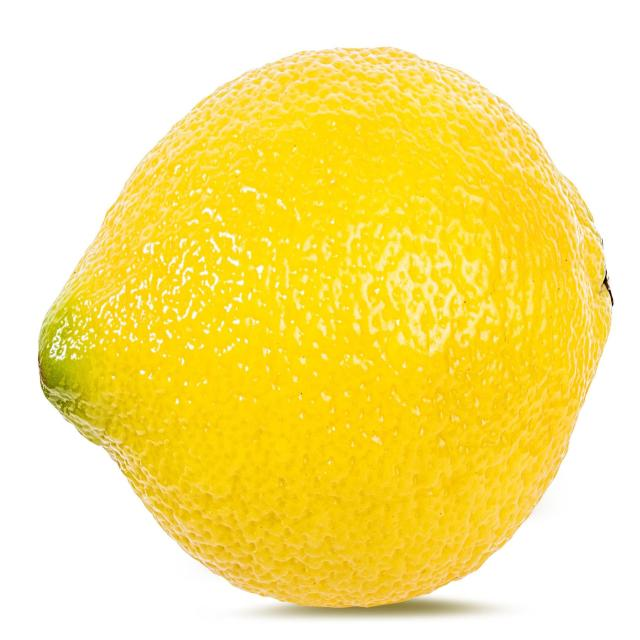lemon: (23, 21, 624, 620)
